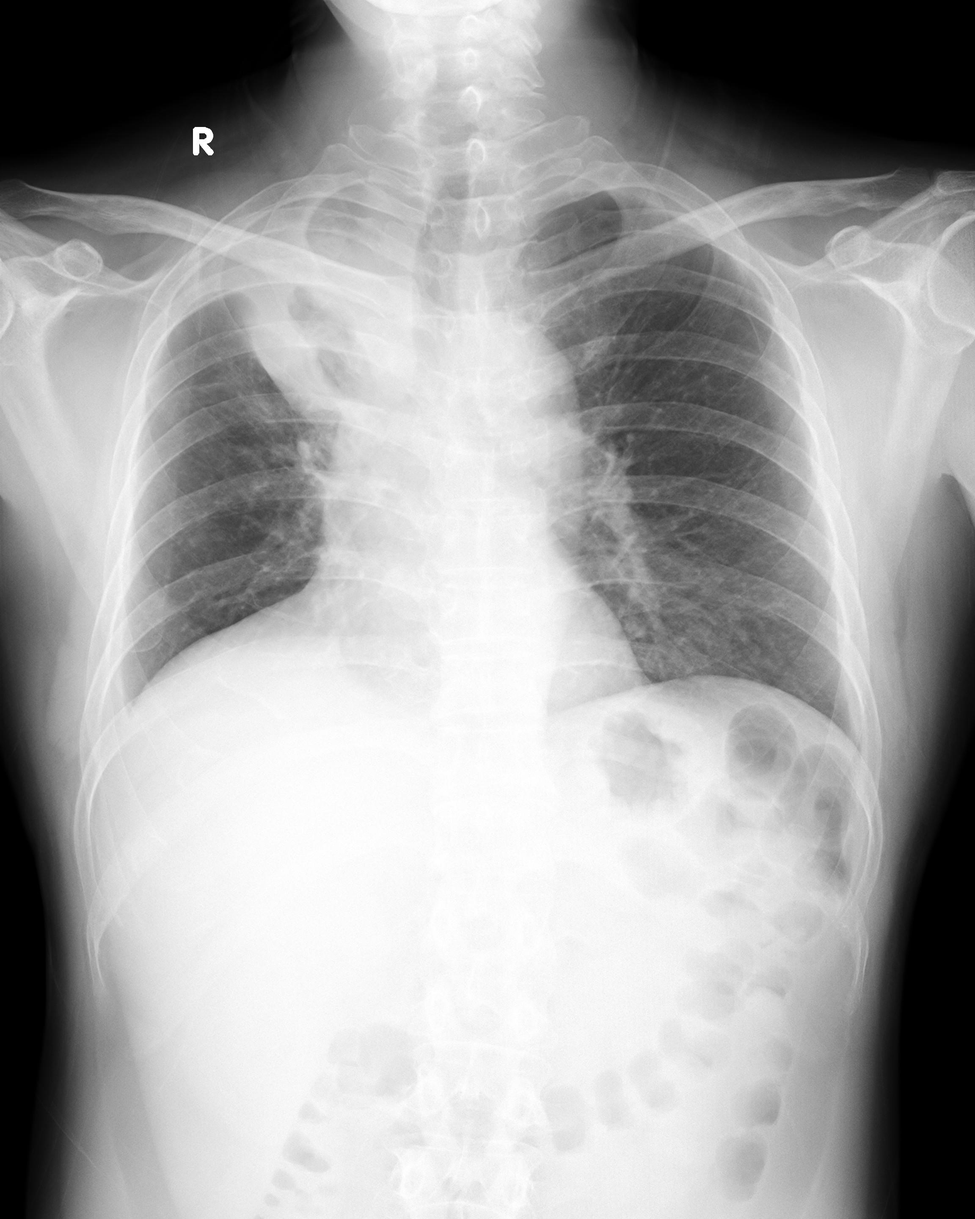Aortic enlargement: (452, 316, 582, 509)
